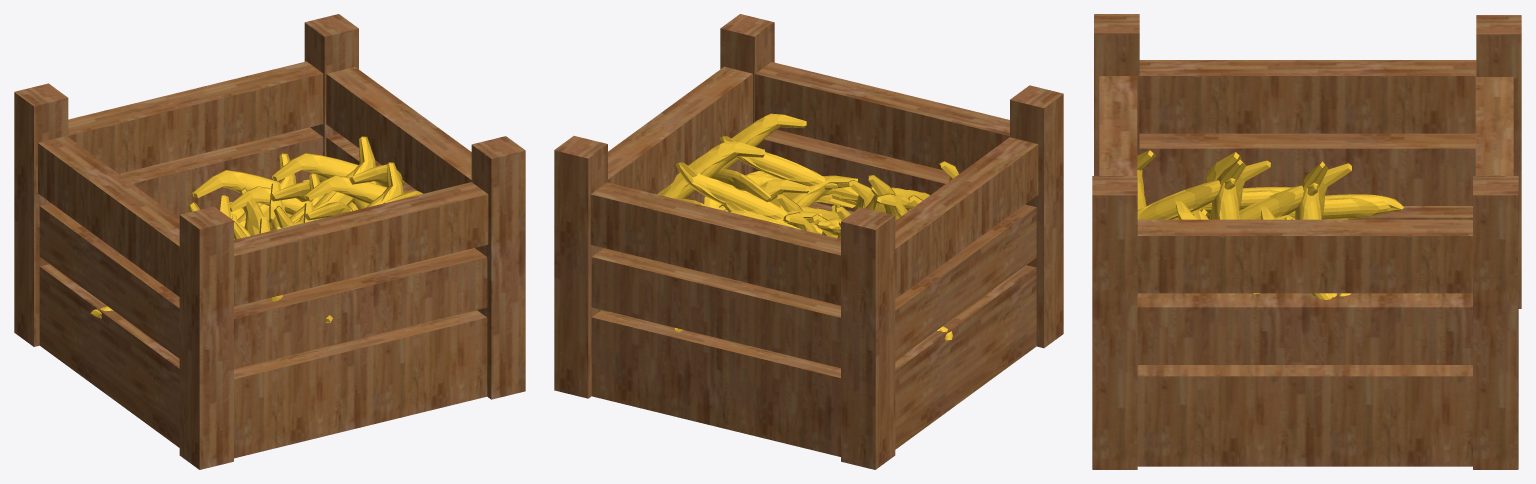
File: Potassium_BananaCrate 1.fbx
3 renders of one model, left to right at view 1: azimuth 30°, elevation 25°; view 2: azimuth 150°, elevation 25°; view 3: azimuth 270°, elevation 25°, orthographic. The views are drawn at different scales.
Parts seen in each view (by area): view 1: Potassium_BananaCrate-SKP-Wood__Floor, Potassium_BananaCrate-GRP-24241-Color_D02, Potassium_BananaCrate-GRP-24194-Color_D02, Potassium_BananaCrate-GRP-24231-Color_D02, Potassium_BananaCrate-GRP-24242-Color_D02, Potassium_BananaCrate-GRP-24184-Color_D02, Potassium_BananaCrate-GRP-24195-Color_D02, Potassium_BananaCrate-GRP-24243-Color_D02, Potassium_BananaCrate-GRP-24224-Color_D02, Potassium_BananaCrate-GRP-24220-Color_D02; view 2: Potassium_BananaCrate-SKP-Wood__Floor, Potassium_BananaCrate-GRP-24242-Color_D02, Potassium_BananaCrate-GRP-24243-Color_D02, Potassium_BananaCrate-GRP-24195-Color_D02, Potassium_BananaCrate-GRP-24196-Color_D02, Potassium_BananaCrate-GRP-24198-Color_D02, Potassium_BananaCrate-GRP-24194-Color_D02, Potassium_BananaCrate-GRP-24173-Color_D02; view 3: Potassium_BananaCrate-SKP-Wood__Floor, Potassium_BananaCrate-GRP-24233-Color_D02, Potassium_BananaCrate-GRP-24179-Color_D02, Potassium_BananaCrate-GRP-24226-Color_D02, Potassium_BananaCrate-GRP-24182-Color_D02, Potassium_BananaCrate-GRP-24229-Color_D02, Potassium_BananaCrate-GRP-24186-Color_D02, Potassium_BananaCrate-GRP-24228-Color_D02, Potassium_BananaCrate-GRP-24181-Color_D02, Potassium_BananaCrate-GRP-24180-Color_D02, Potassium_BananaCrate-GRP-24227-Color_D02.
Part boxes in pixels (x1,y1,x2,y2): Potassium_BananaCrate-SKP-Wood__Floor: [14, 14, 525, 469]; Potassium_BananaCrate-GRP-24241-Color_D02: [272, 153, 376, 183]; Potassium_BananaCrate-GRP-24194-Color_D02: [304, 175, 387, 203]; Potassium_BananaCrate-GRP-24231-Color_D02: [192, 170, 278, 197]; Potassium_BananaCrate-GRP-24242-Color_D02: [298, 136, 375, 221]; Potassium_BananaCrate-GRP-24184-Color_D02: [229, 186, 308, 214]; Potassium_BananaCrate-GRP-24195-Color_D02: [366, 162, 403, 207]; Potassium_BananaCrate-GRP-24243-Color_D02: [349, 164, 405, 187]; Potassium_BananaCrate-GRP-24224-Color_D02: [239, 188, 264, 235]; Potassium_BananaCrate-GRP-24220-Color_D02: [270, 181, 309, 201]; Potassium_BananaCrate-SKP-Wood__Floor: [554, 14, 1063, 469]; Potassium_BananaCrate-GRP-24242-Color_D02: [675, 162, 793, 225]; Potassium_BananaCrate-GRP-24243-Color_D02: [657, 141, 765, 198]; Potassium_BananaCrate-GRP-24195-Color_D02: [719, 136, 837, 190]; Potassium_BananaCrate-GRP-24196-Color_D02: [721, 113, 806, 169]; Potassium_BananaCrate-GRP-24198-Color_D02: [777, 175, 857, 207]; Potassium_BananaCrate-GRP-24194-Color_D02: [711, 168, 771, 202]; Potassium_BananaCrate-GRP-24173-Color_D02: [760, 179, 809, 201]; Potassium_BananaCrate-SKP-Wood__Floor: [1092, 14, 1521, 469]; Potassium_BananaCrate-GRP-24233-Color_D02: [1288, 194, 1403, 219]; Potassium_BananaCrate-GRP-24179-Color_D02: [1137, 178, 1236, 219]; Potassium_BananaCrate-GRP-24226-Color_D02: [1238, 182, 1318, 219]; Potassium_BananaCrate-GRP-24182-Color_D02: [1212, 159, 1246, 219]; Potassium_BananaCrate-GRP-24229-Color_D02: [1295, 161, 1328, 219]; Potassium_BananaCrate-GRP-24186-Color_D02: [1191, 187, 1292, 212]; Potassium_BananaCrate-GRP-24228-Color_D02: [1295, 163, 1351, 219]; Potassium_BananaCrate-GRP-24181-Color_D02: [1209, 160, 1270, 219]; Potassium_BananaCrate-GRP-24180-Color_D02: [1137, 150, 1155, 210]; Potassium_BananaCrate-GRP-24227-Color_D02: [1206, 152, 1241, 219].
Bounding box in the file's own units: 3.51 × 2.48 × 3.52.
